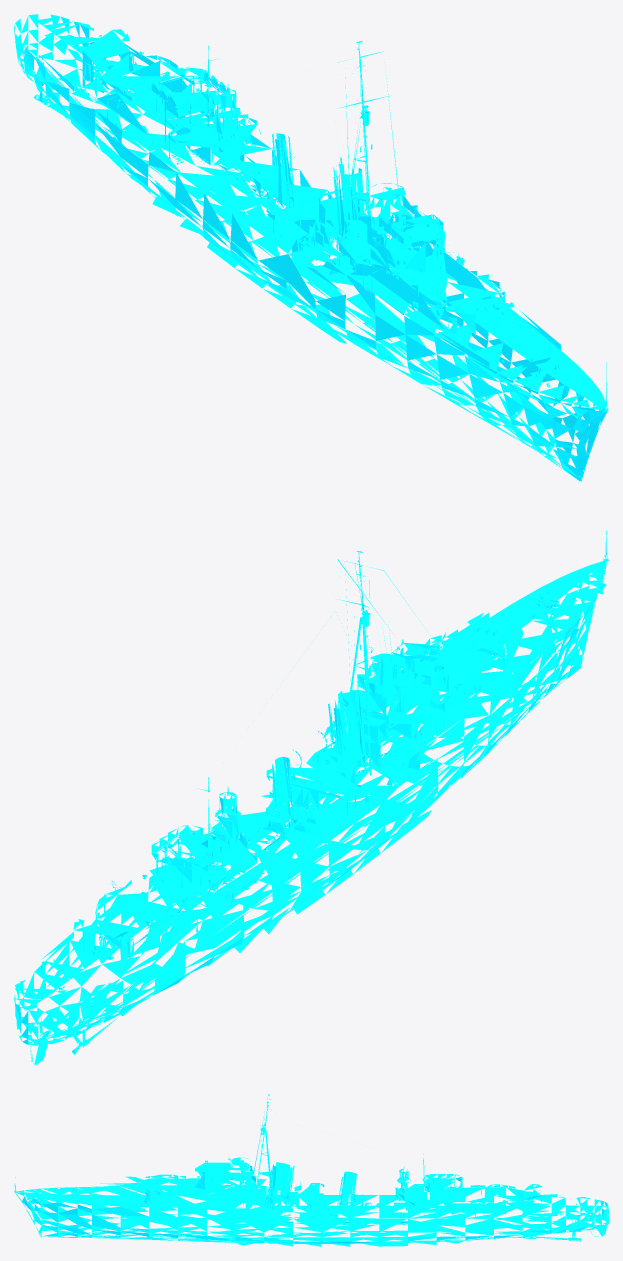
File: Huron.glb
3 views of the same model, one above another, from view 1: azimuth 30°, elevation 25°; view 2: azimuth 150°, elevation 25°; view 3: azimuth 270°, elevation 25° (orthographic). The views are drawn at different scales.
Size of the model in its own units: 0.7618 by 2.03 by 7.66.
